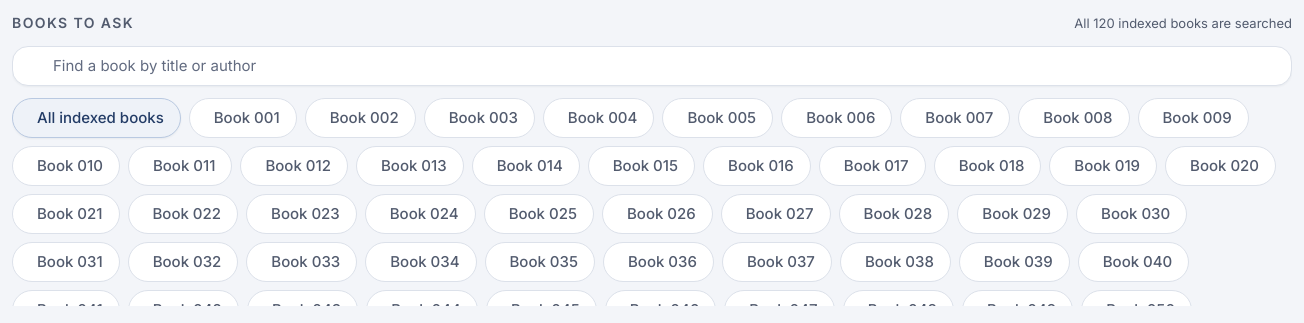
BookSelector › says when nothing matches
Expected: the text "All 120 indexed books are searched" is shown, left=1074, top=13, right=1292, bottom=33
Type "zzz" into the field labelled "Find a book" at (652, 66), box left=12, top=46, right=1292, bottom=86
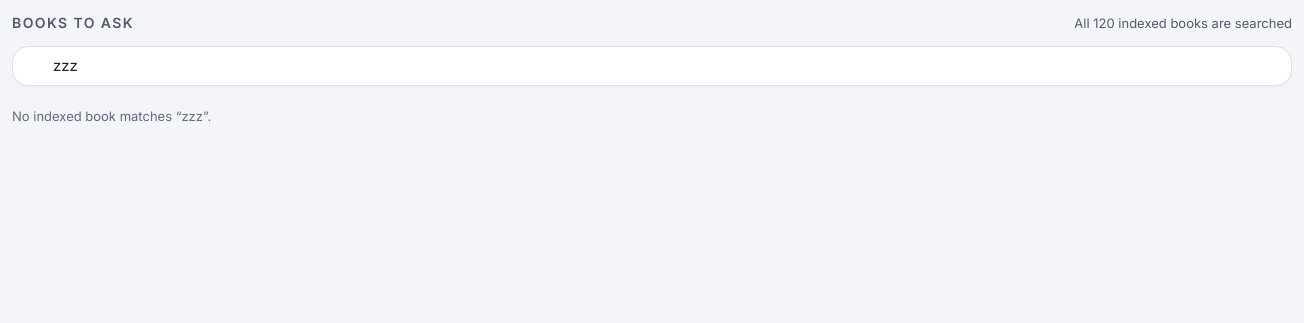
Now the text "No indexed book matches “zzz”." is shown, box left=12, top=108, right=211, bottom=124
